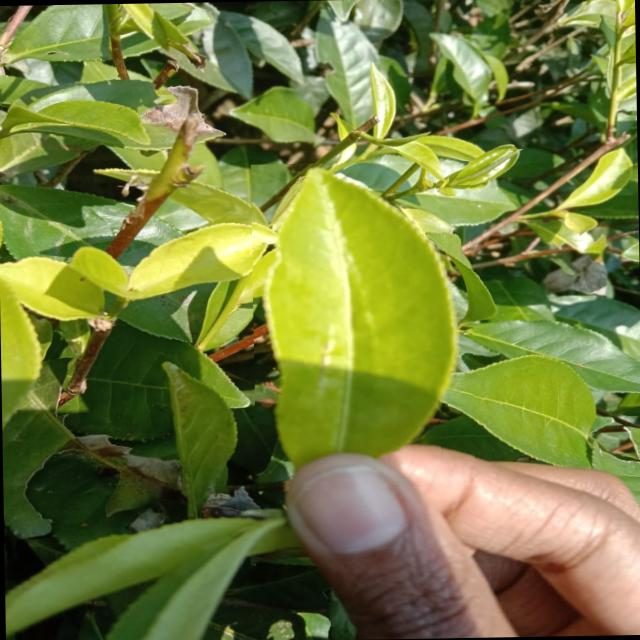Category B 2-4 days: (250, 161, 475, 491)
